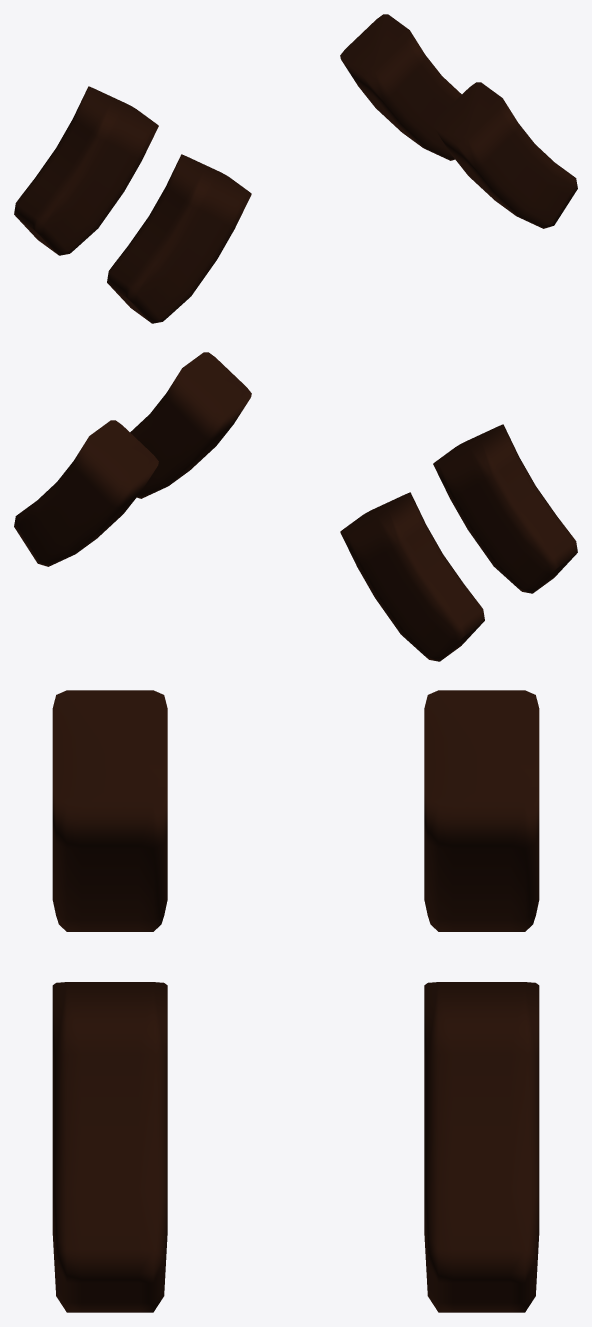
File: RoofHolder.obj
3 renders of one model, top to bottom at view 1: azimuth 30°, elevation 25°; view 2: azimuth 150°, elevation 25°; view 3: azimuth 270°, elevation 25°, orthographic. The views are drawn at different scales.
Parts seen in each view (by area): view 1: Roof1 HouseBase1 RoofCrossBeam3, Roof1 HouseBase1 RoofCrossBeam4, Roof1 HouseBase1 RoofCrossBeam1, RoofCrossBeam2 Roof1 HouseBase1; view 2: Roof1 HouseBase1 RoofCrossBeam4, Roof1 HouseBase1 RoofCrossBeam3, RoofCrossBeam2 Roof1 HouseBase1, Roof1 HouseBase1 RoofCrossBeam1; view 3: RoofCrossBeam2 Roof1 HouseBase1, Roof1 HouseBase1 RoofCrossBeam1, Roof1 HouseBase1 RoofCrossBeam4, Roof1 HouseBase1 RoofCrossBeam3.
Part boxes in pixels (x1,y1,x2,y2): Roof1 HouseBase1 RoofCrossBeam3: (107, 154, 251, 323); Roof1 HouseBase1 RoofCrossBeam4: (14, 86, 158, 255); Roof1 HouseBase1 RoofCrossBeam1: (433, 82, 577, 228); RoofCrossBeam2 Roof1 HouseBase1: (340, 14, 461, 160); Roof1 HouseBase1 RoofCrossBeam4: (340, 492, 484, 661); Roof1 HouseBase1 RoofCrossBeam3: (433, 424, 577, 593); RoofCrossBeam2 Roof1 HouseBase1: (14, 420, 158, 566); Roof1 HouseBase1 RoofCrossBeam1: (130, 352, 251, 498); RoofCrossBeam2 Roof1 HouseBase1: (424, 982, 539, 1312); Roof1 HouseBase1 RoofCrossBeam1: (52, 982, 167, 1312); Roof1 HouseBase1 RoofCrossBeam4: (424, 690, 539, 931); Roof1 HouseBase1 RoofCrossBeam3: (52, 690, 167, 931).
Bounding box in the file's own units: 16.52 × 4.94 × 7.75.
